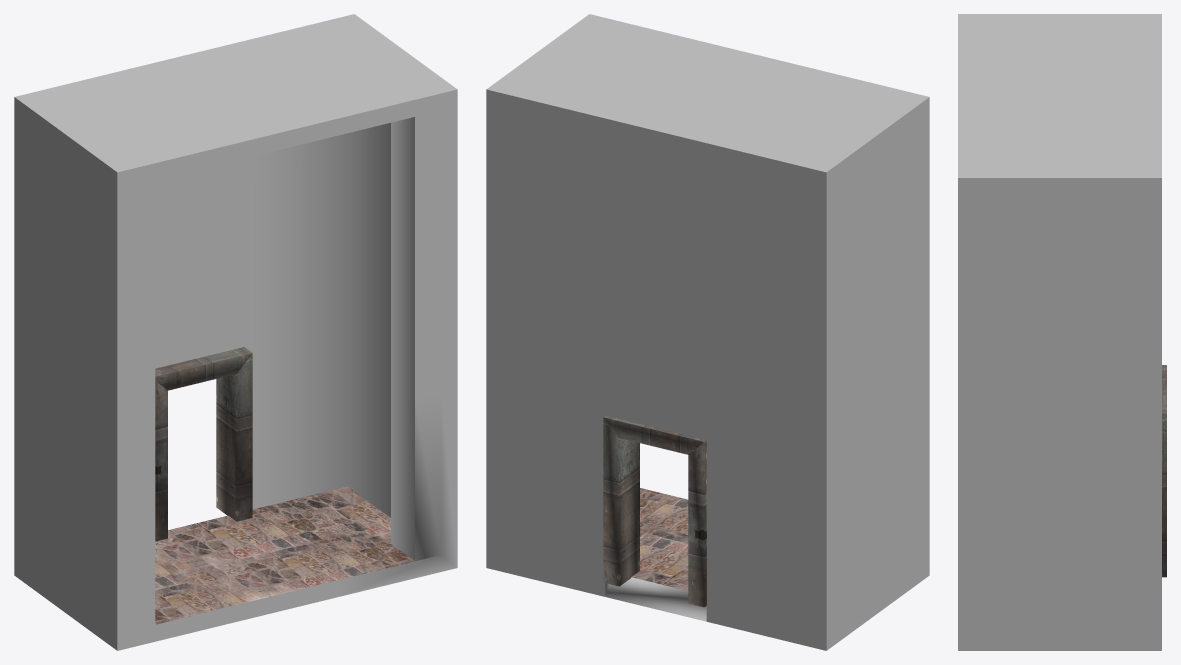
The model's file is door_connector_corridor.dae.
3 views of the same model, side by side, from view 1: azimuth 30°, elevation 25°; view 2: azimuth 150°, elevation 25°; view 3: azimuth 270°, elevation 25° (orthographic).
Visible parts, largest first — view 1: meshU3D; view 2: meshU3D; view 3: meshU3D.
Boxes of the visible parts, x1,y1,x2,y2 form: meshU3D: (14, 14, 457, 650); meshU3D: (486, 14, 929, 650); meshU3D: (958, 14, 1166, 650).
Bounding box in the file's own units: 4.37 × 5.87 × 2.35.
